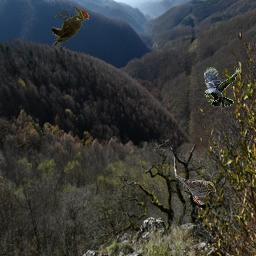Crow: (204, 67, 241, 107)
Sparrow: (176, 175, 216, 205)
Woodpecker: (52, 7, 89, 47)
